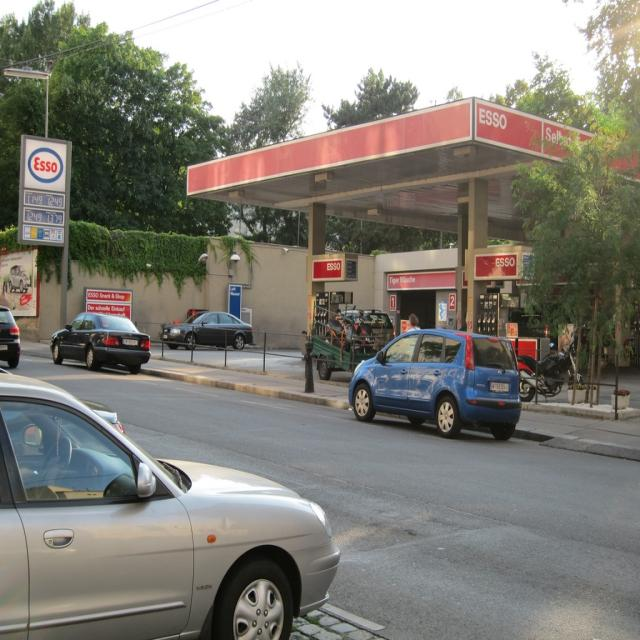esso: (27, 145, 67, 186)
